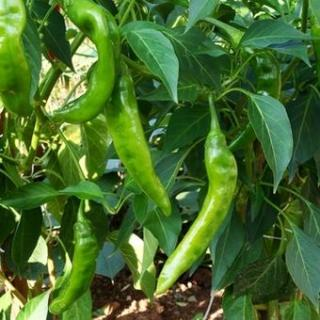Cabai Hijau: (147, 93, 243, 306), (1, 1, 36, 118)
